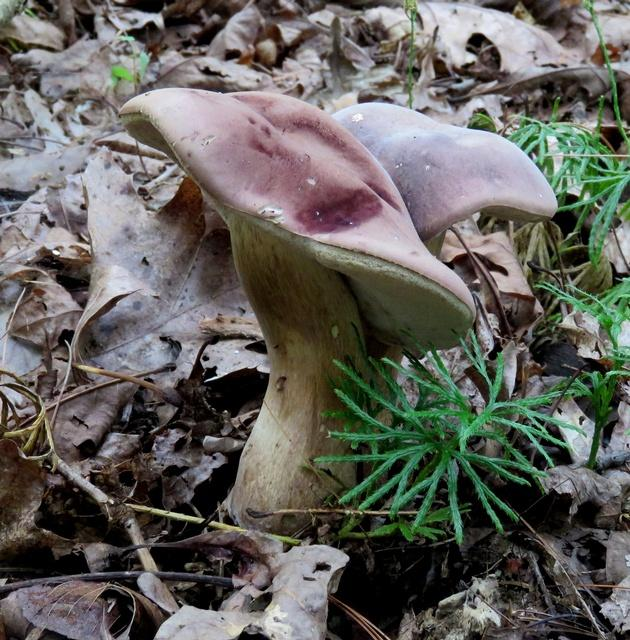poisonous_mushroom: (112, 64, 549, 505)
